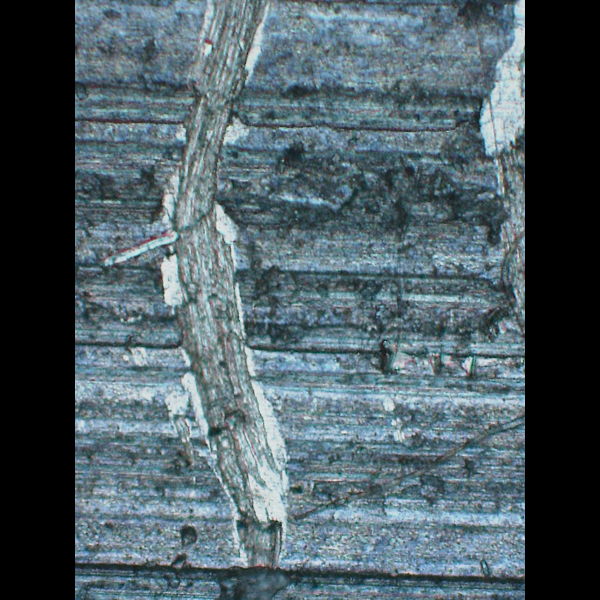d: (174, 197, 292, 600), (441, 0, 524, 349), (169, 2, 277, 227)
